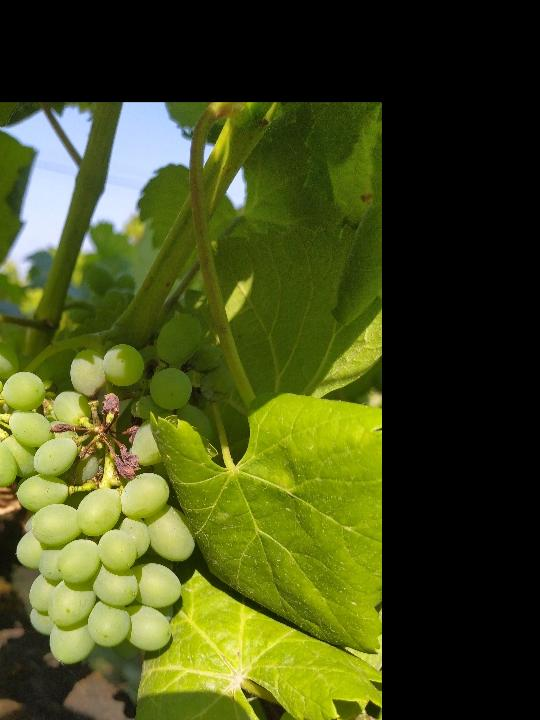grape: (0, 307, 237, 669), (272, 702, 380, 720)
